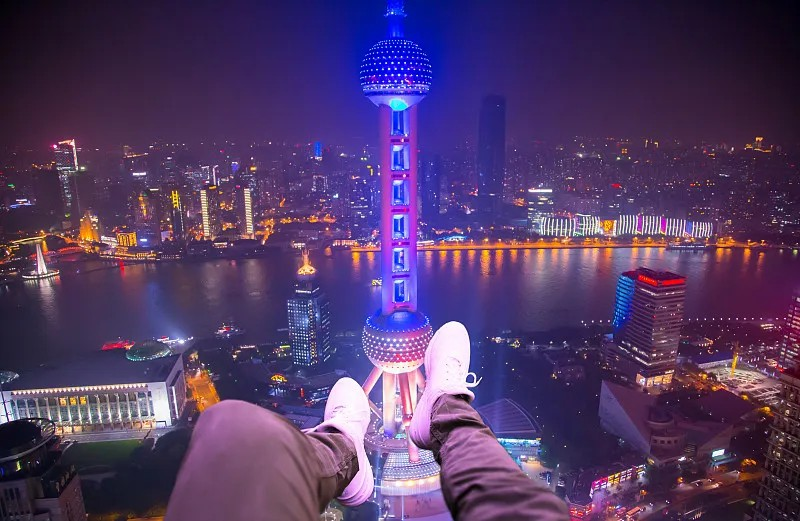Oriental: (360, 2, 434, 467)
